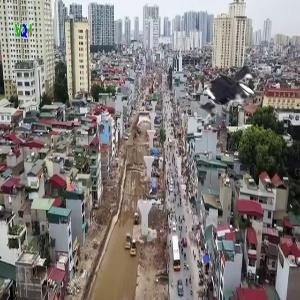drone: (184, 47, 281, 144)
